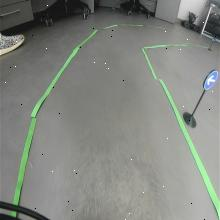left: (204, 70, 218, 91)
